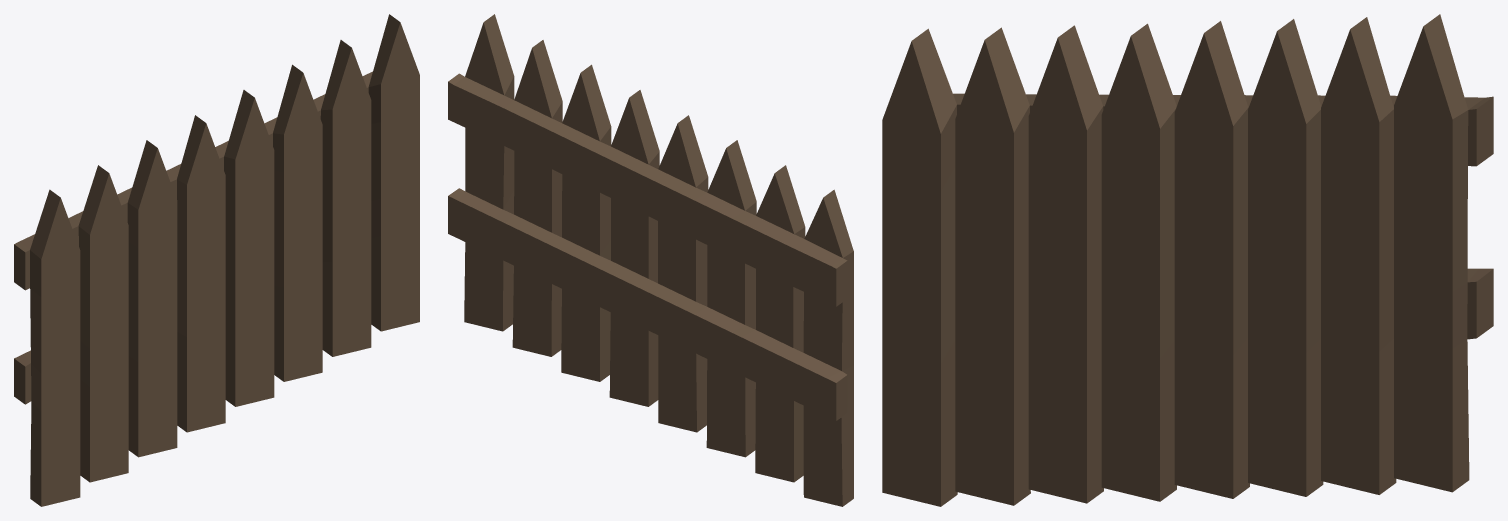
The model's file is Fence_Mesh2.fbx.
3 renders of one model, left to right at view 1: azimuth 30°, elevation 25°; view 2: azimuth 150°, elevation 25°; view 3: azimuth 330°, elevation 25°, orthographic. The views are drawn at different scales.
Parts seen in each view (by area): view 1: Picket_Fence_Hill; view 2: Picket_Fence_Hill; view 3: Picket_Fence_Hill.
Part boxes in pixels (x1,y1,x2,y2): Picket_Fence_Hill: (14,14,419,506); Picket_Fence_Hill: (448,14,853,506); Picket_Fence_Hill: (882,14,1493,506).
Bounding box in the file's own units: 20 × 19.56 × 2.
